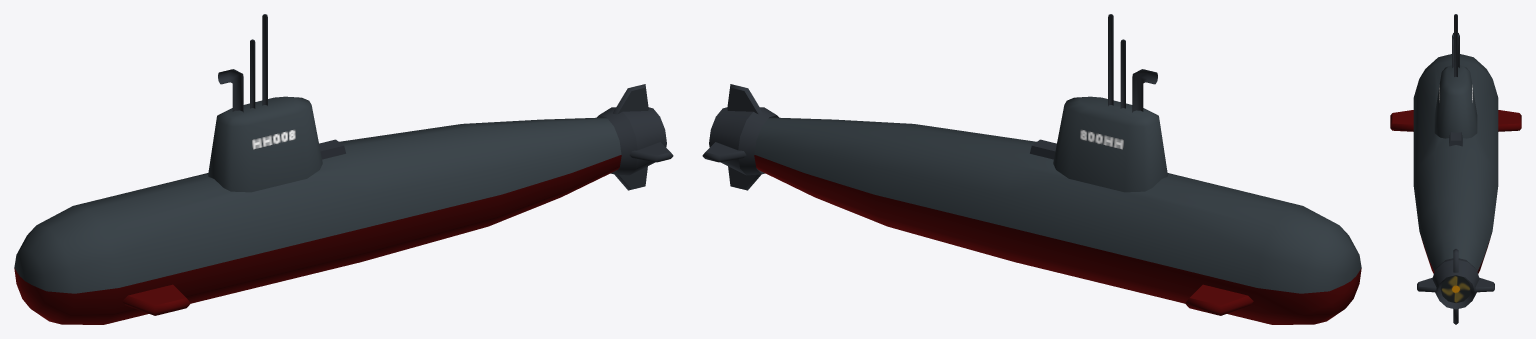
Rendered from FSW_Boat_04_Sub_A.fbx.
3 renders of one model, left to right at view 1: azimuth 30°, elevation 25°; view 2: azimuth 150°, elevation 25°; view 3: azimuth 270°, elevation 25°, orthographic. The views are drawn at different scales.
Visible parts, largest first — view 1: FSW_Boat_04_Sub_A; view 2: FSW_Boat_04_Sub_A; view 3: FSW_Boat_04_Sub_A.
Boxes of the visible parts, x1=… form: FSW_Boat_04_Sub_A: x1=14, y1=14, x2=673, y2=324; FSW_Boat_04_Sub_A: x1=702, y1=14, x2=1361, y2=324; FSW_Boat_04_Sub_A: x1=1390, y1=14, x2=1521, y2=324.
Bounding box in the file's own units: 546 × 220 × 144.
